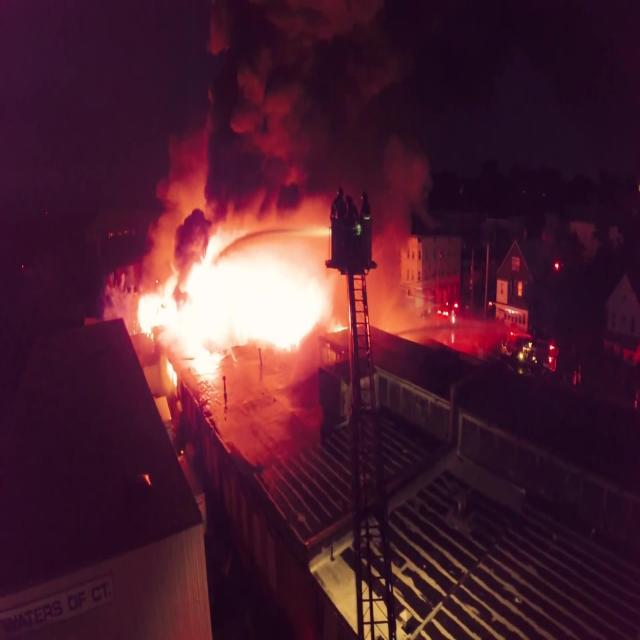Fire: (140, 238, 348, 386)
Smoke: (145, 0, 435, 239)
